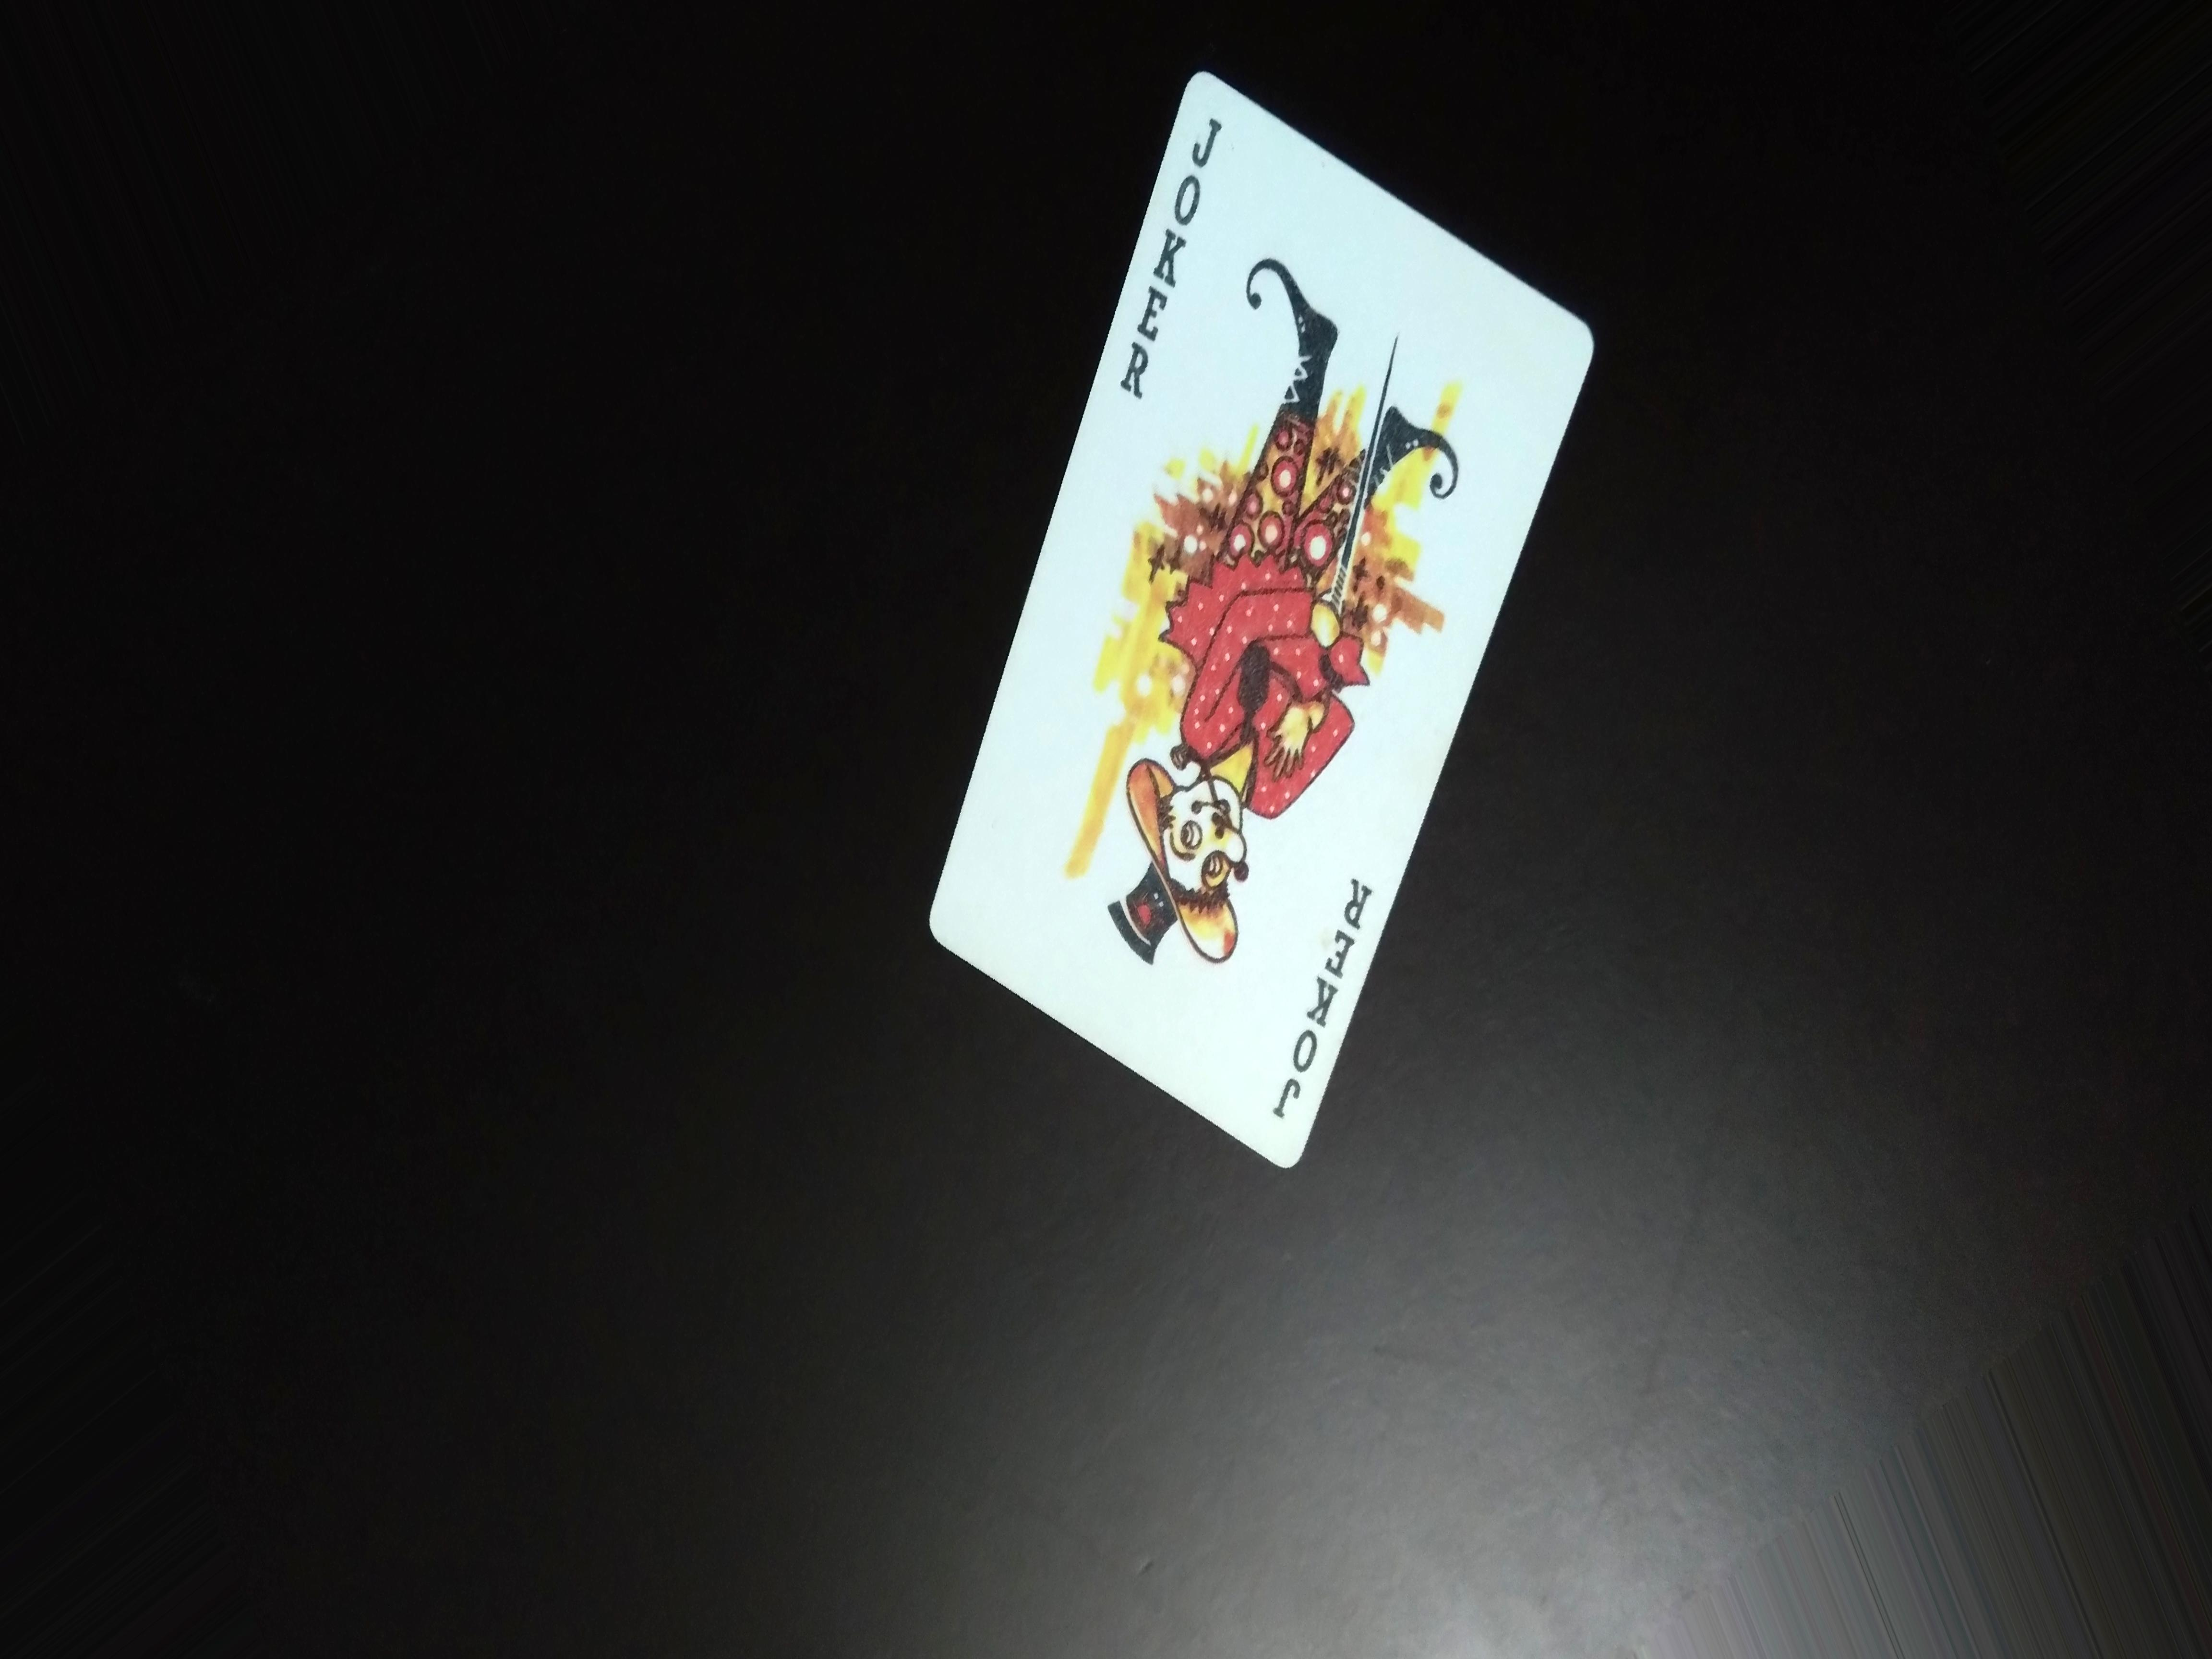JOKER: (1118, 92, 1224, 413)
